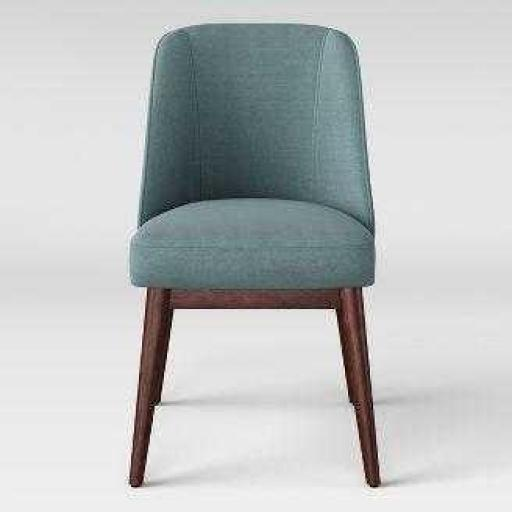chair: (119, 14, 401, 500)
